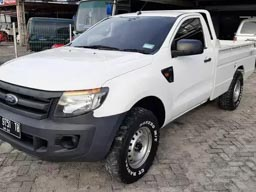plat: (2, 118, 21, 141)
